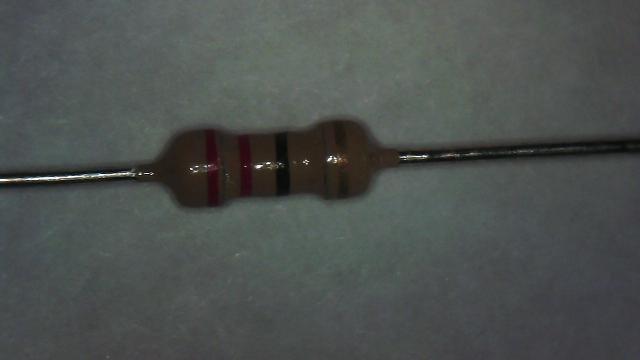black: (276, 132, 286, 191)
gold: (337, 121, 350, 196)
orange: (239, 134, 251, 194)
red: (205, 128, 220, 205)
resistor: (145, 95, 410, 227)
